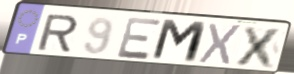9: (82, 16, 117, 56)
E: (115, 16, 165, 61)
M: (148, 18, 209, 66)
R: (35, 14, 80, 53)
X: (232, 25, 287, 70), (196, 22, 244, 67)
